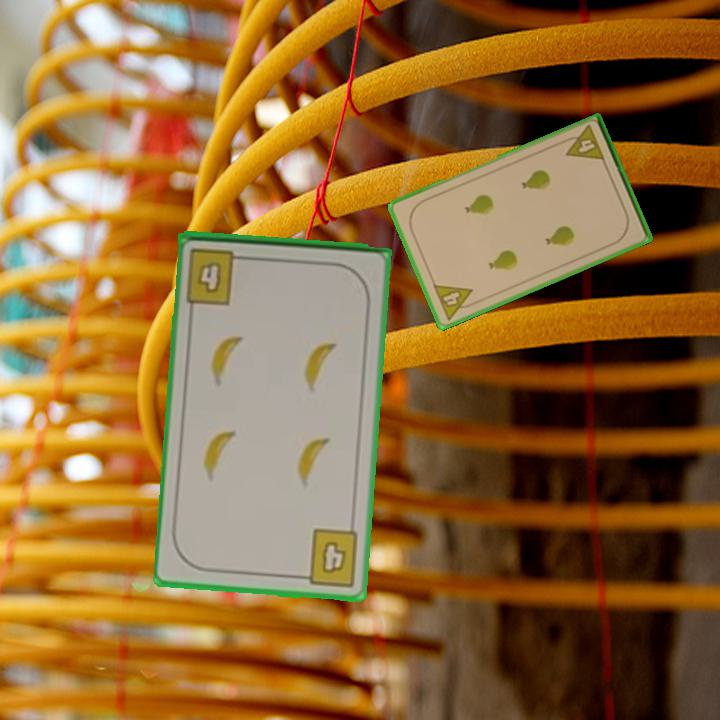4b: (182, 244, 251, 308), (295, 525, 362, 589)
4p: (429, 281, 480, 323), (558, 122, 608, 164)
